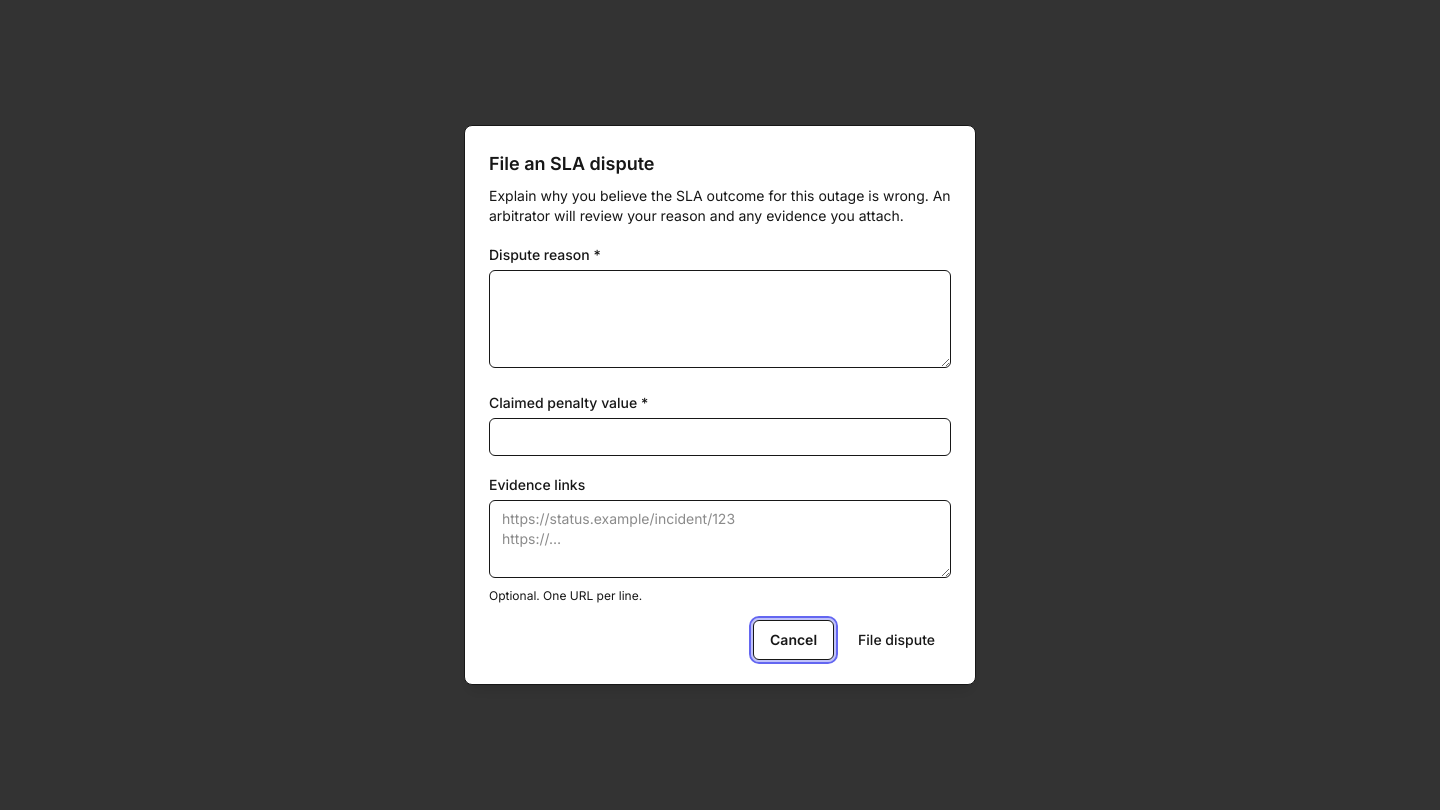
Test case: DisputeModal › does not submit while mandatory fields are empty
Click the button "File dispute". click: x=897, y=640
box: [842, 620, 951, 660]
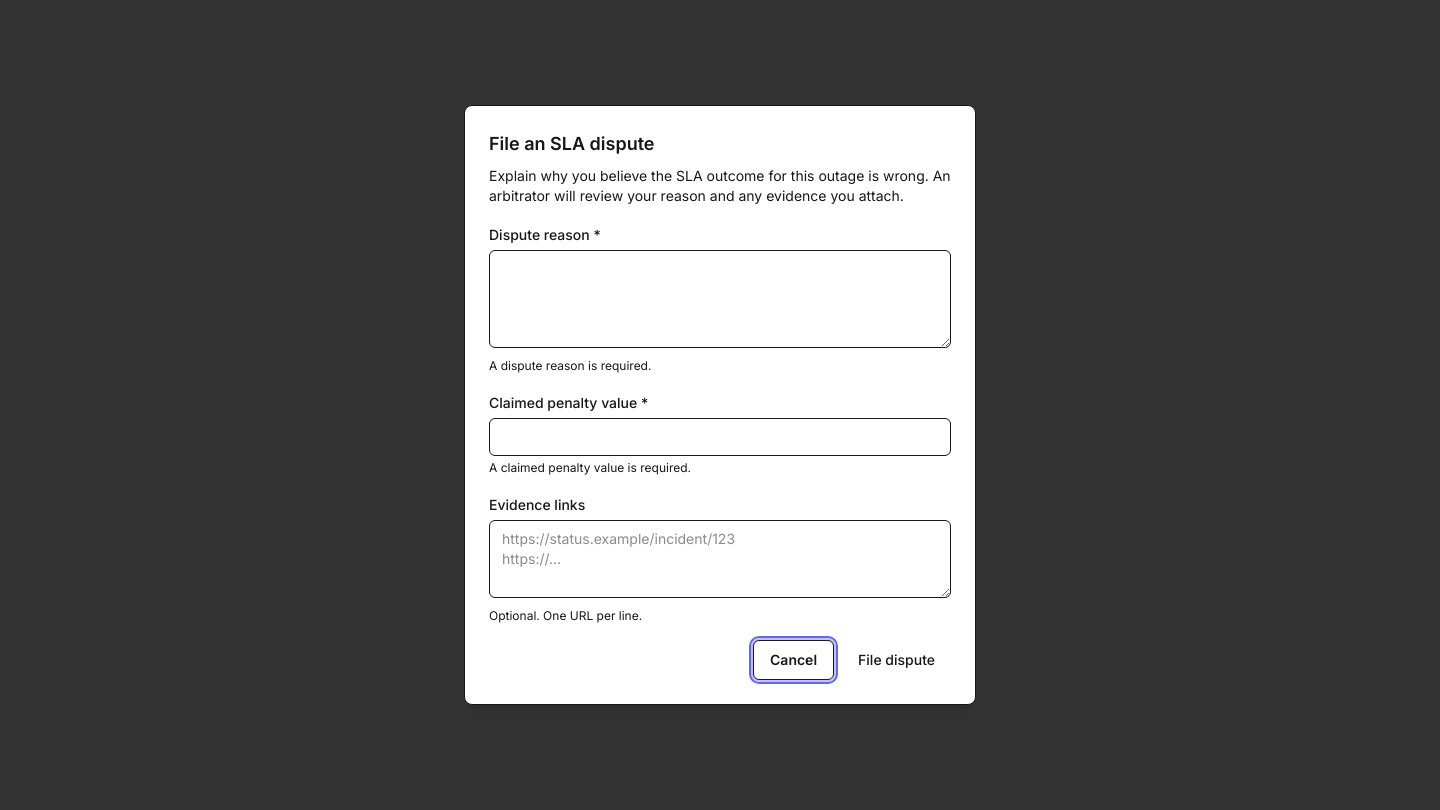
Result: the text "A dispute reason is required." is shown at [489, 358, 651, 373]
Result: the text "A claimed penalty value is required." is shown at [489, 460, 691, 475]
